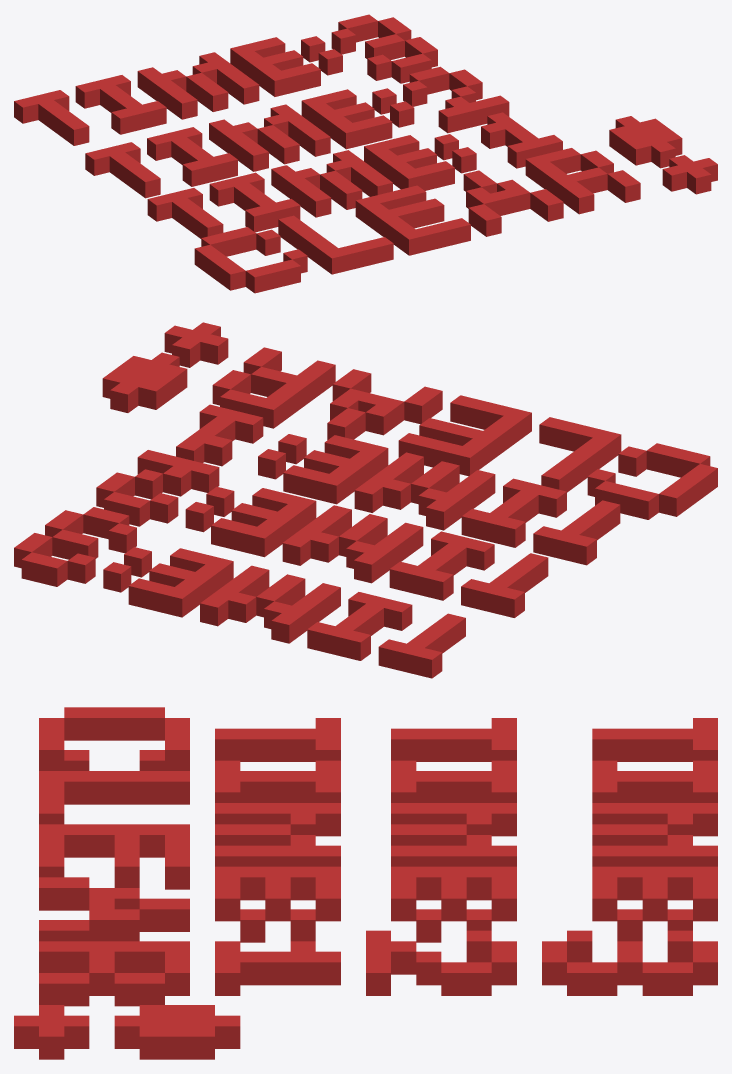
Rendered from count.obj.
3 renders of one model, top to bottom at view 1: azimuth 30°, elevation 25°; view 2: azimuth 150°, elevation 25°; view 3: azimuth 270°, elevation 25°, orthographic. The views are drawn at different scales.
Bounding box in the file's own units: 31 × 1 × 28.
